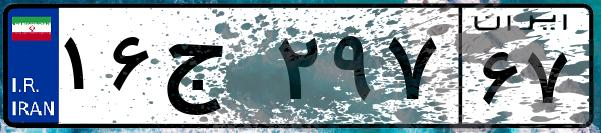1: (57, 26, 110, 100)
2: (270, 28, 330, 110)
6: (475, 38, 525, 113), (110, 28, 158, 98)
7: (385, 28, 445, 110), (525, 38, 570, 115)
9: (330, 28, 385, 110)
ج: (158, 20, 270, 120)
